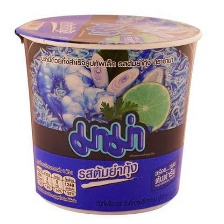paper_cup: (10, 7, 206, 220)
